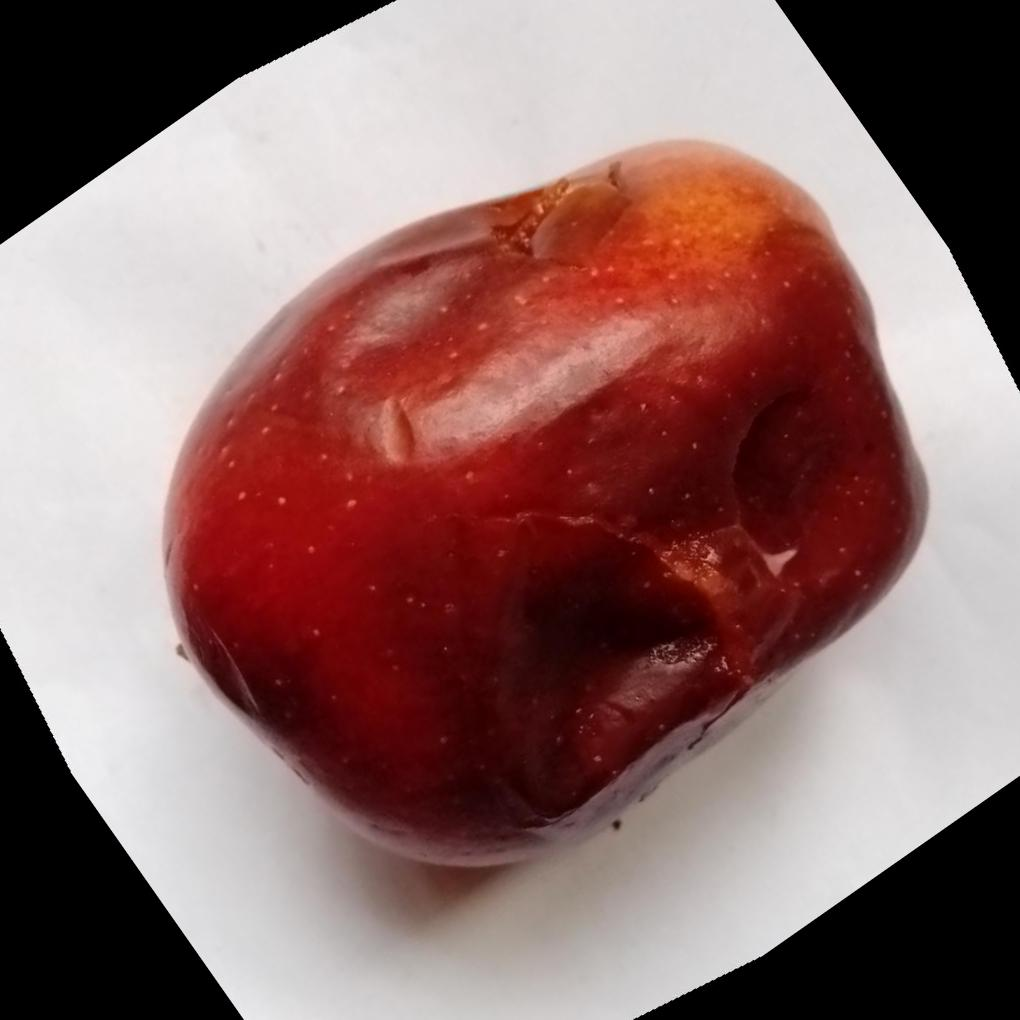FreshOrange: (161, 138, 932, 873)
